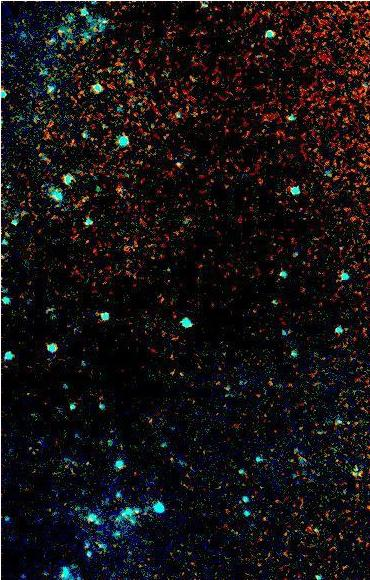star: (146, 284, 176, 314)
